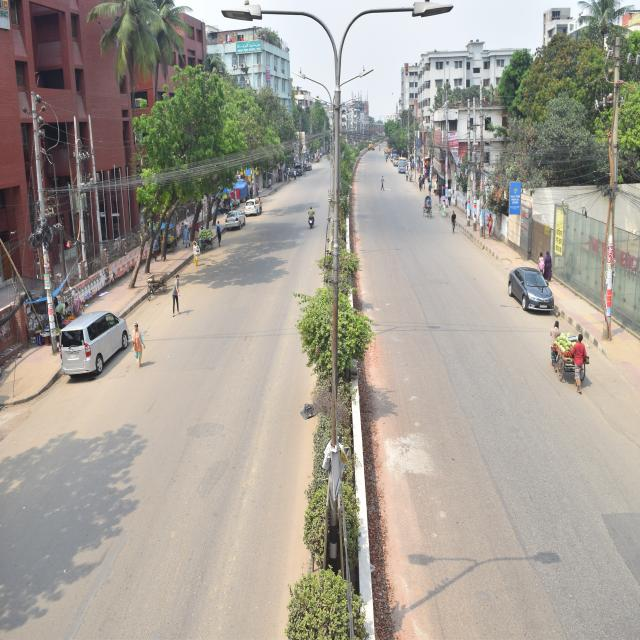car: (503, 256, 560, 322), (242, 197, 265, 224), (220, 208, 243, 230)
microbus: (48, 308, 131, 382)
motorbike: (303, 202, 319, 234)
